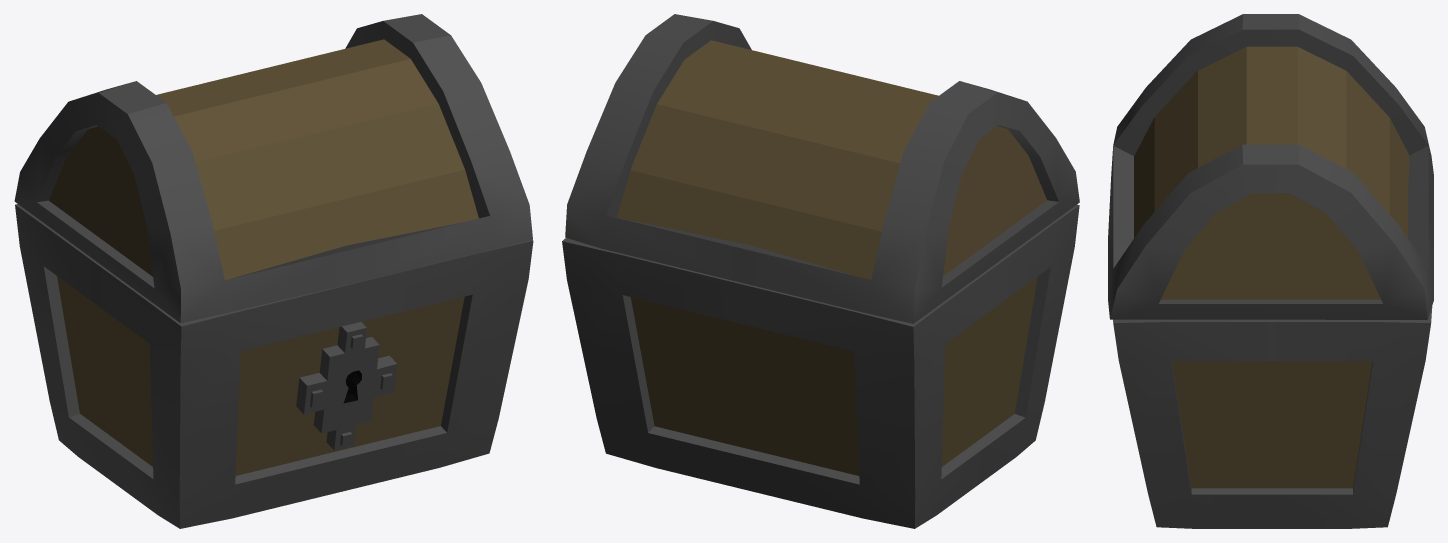
File: ChestModel.fbx
3 renders of one model, left to right at view 1: azimuth 30°, elevation 25°; view 2: azimuth 150°, elevation 25°; view 3: azimuth 270°, elevation 25°, orthographic. The views are drawn at different scales.
Visible parts, largest first — view 1: ChestBottomRim, ChestTop, ChestTopRim, ChestBottom, ChestLock; view 2: ChestBottomRim, ChestTop, ChestTopRim, ChestBottom; view 3: ChestTopRim, ChestTop, ChestBottomRim, ChestBottom.
Part boxes in pixels (<box>): ChestBottomRim: <box>15,204,533,528</box>; ChestTop: <box>49,39,478,280</box>; ChestTopRim: <box>14,14,532,323</box>; ChestBottom: <box>57,276,464,475</box>; ChestLock: <box>296,322,397,450</box>; ChestBottomRim: <box>562,204,1079,528</box>; ChestTop: <box>617,40,1046,279</box>; ChestTopRim: <box>565,14,1079,323</box>; ChestBottom: <box>630,276,1037,475</box>; ChestTopRim: <box>1108,14,1433,319</box>; ChestTop: <box>1134,46,1409,299</box>; ChestBottomRim: <box>1113,306,1432,528</box>; ChestBottom: <box>1172,361,1372,488</box>.
Size of the model in its own units: 0.5485 by 0.5699 by 0.4524.
